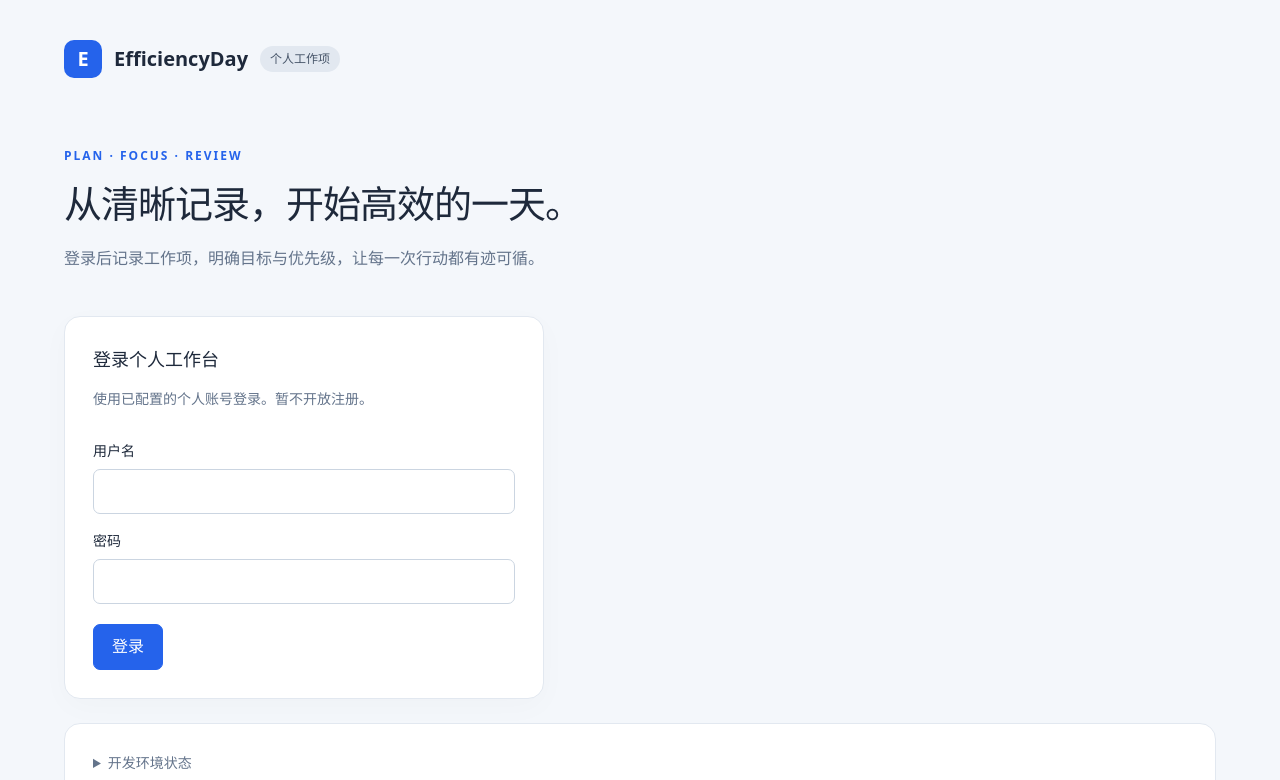
Test case: does not let an earlier session check undo a confirmed auth change (login=true)
Expected: the button "登录" is shown, [93, 624, 163, 670]
Type "demo" into the field labelled "用户名" at (304, 491), box [93, 468, 515, 514]
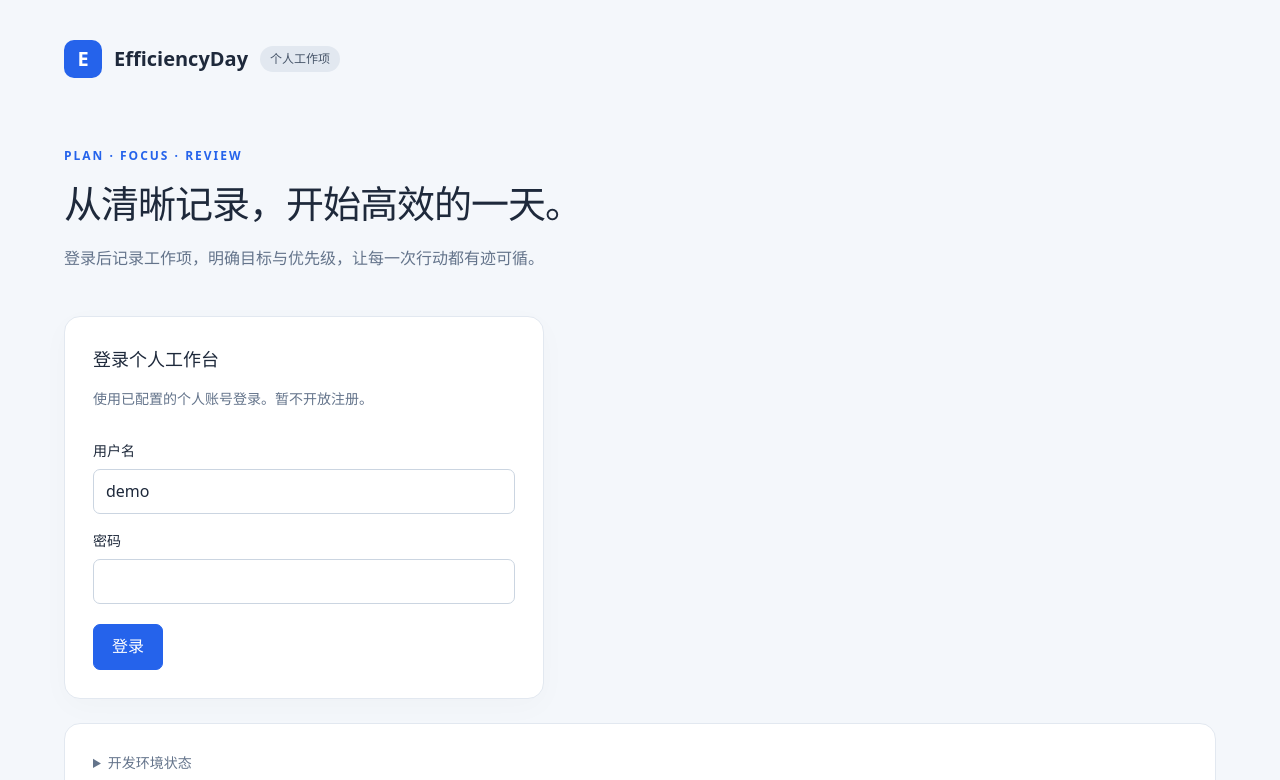
Type "test-password" into the password field labelled "密码" at (304, 581), box [93, 558, 515, 604]
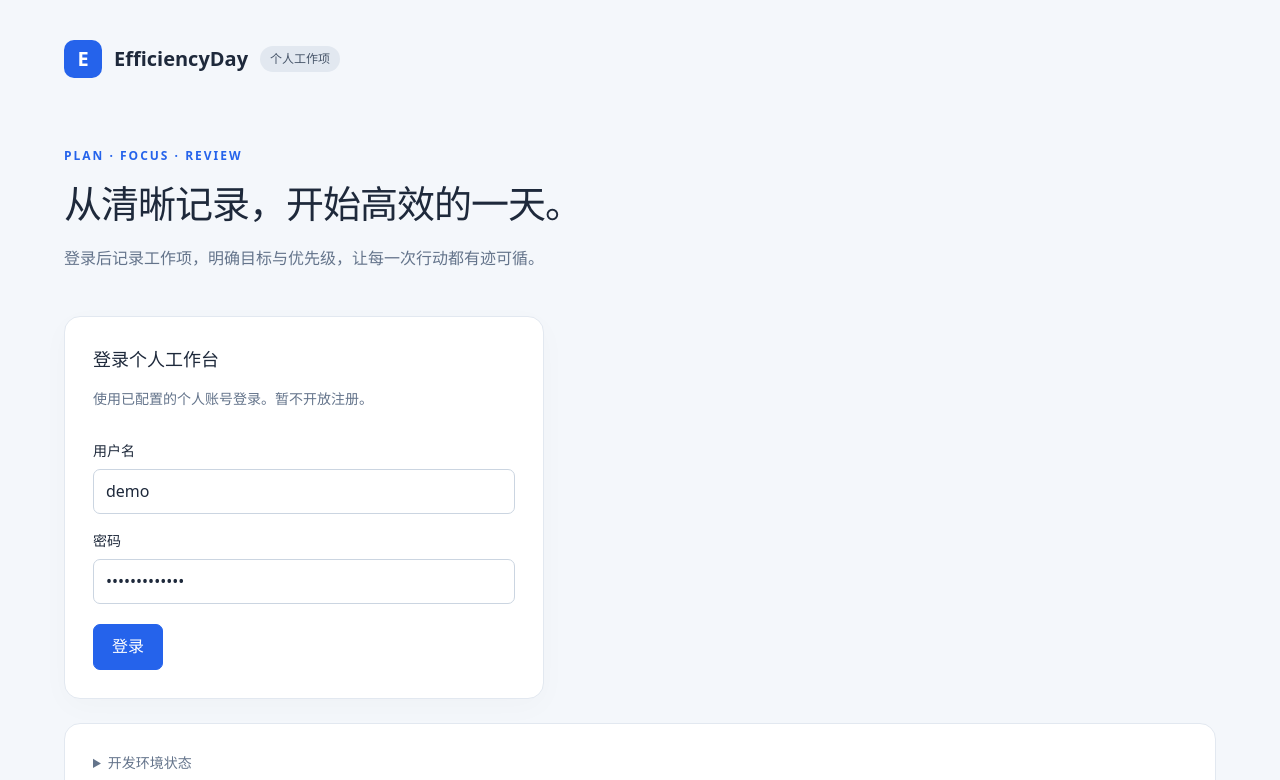
Click the button "登录" at (128, 647), box [93, 624, 163, 670]
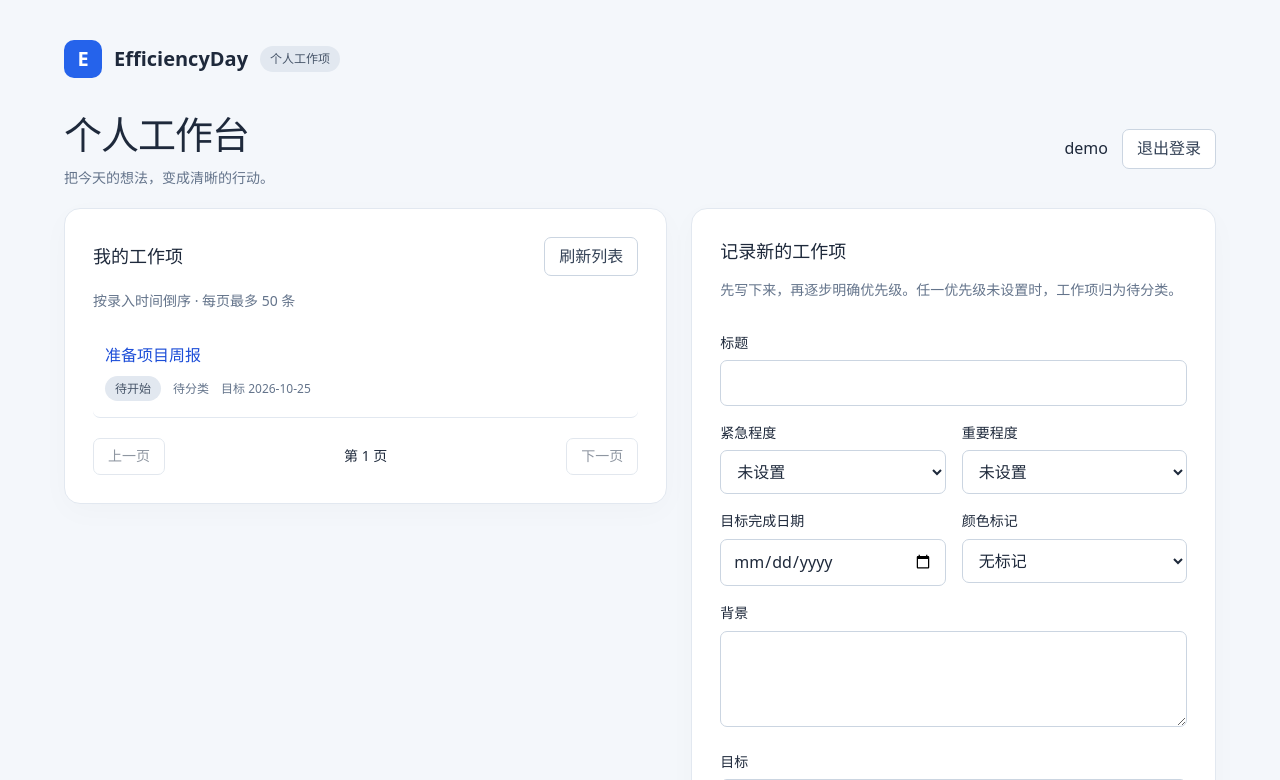
Now the button "退出登录" is shown, box [1122, 129, 1216, 169]
